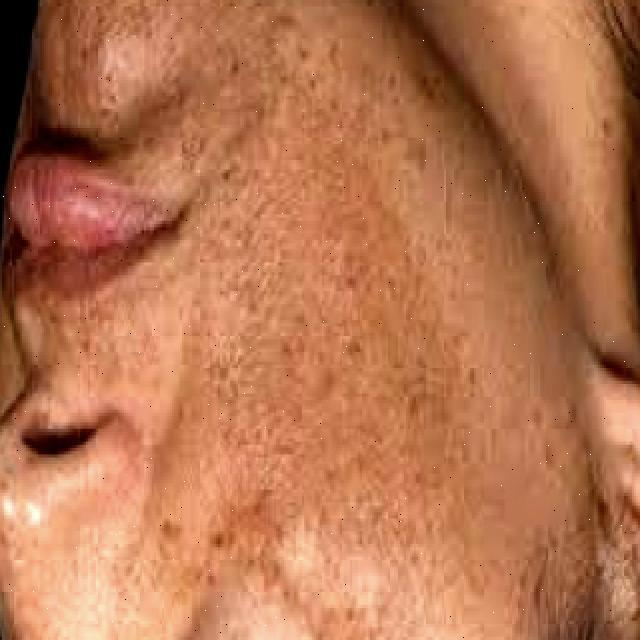Melasma: (130, 16, 487, 618)
